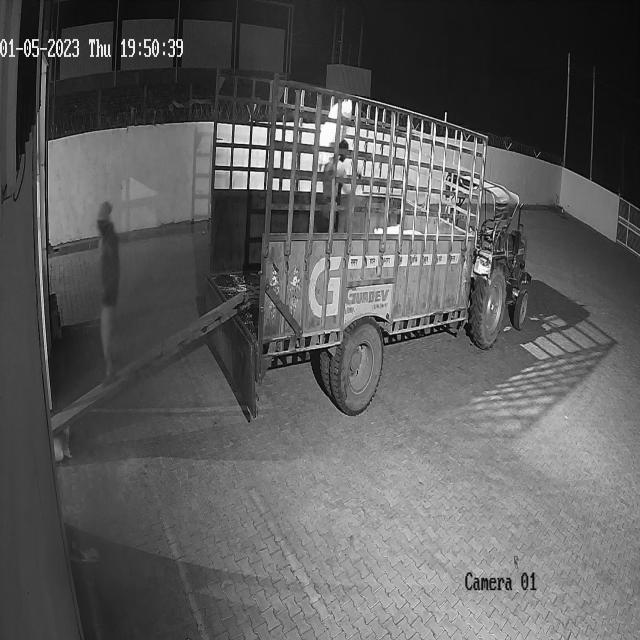sack: (318, 99, 353, 166)
